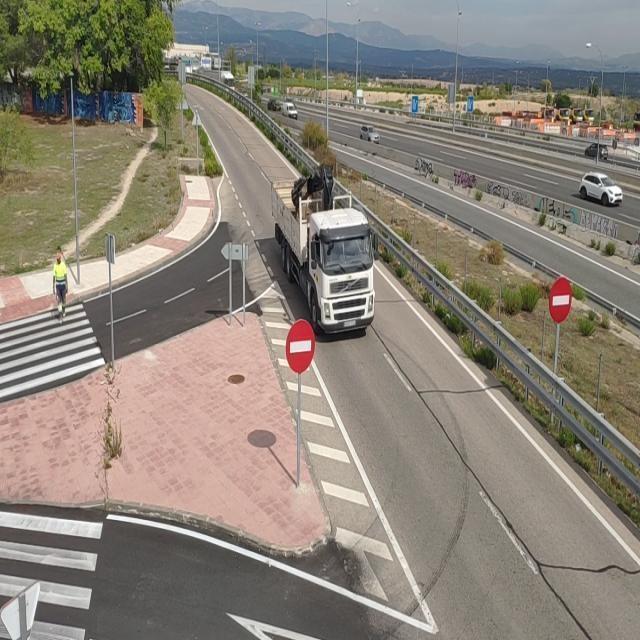Car: (578, 173, 624, 207), (584, 143, 609, 159), (360, 124, 380, 142)
Truck: (270, 164, 380, 330), (219, 70, 236, 92)
Van: (282, 103, 299, 120)
